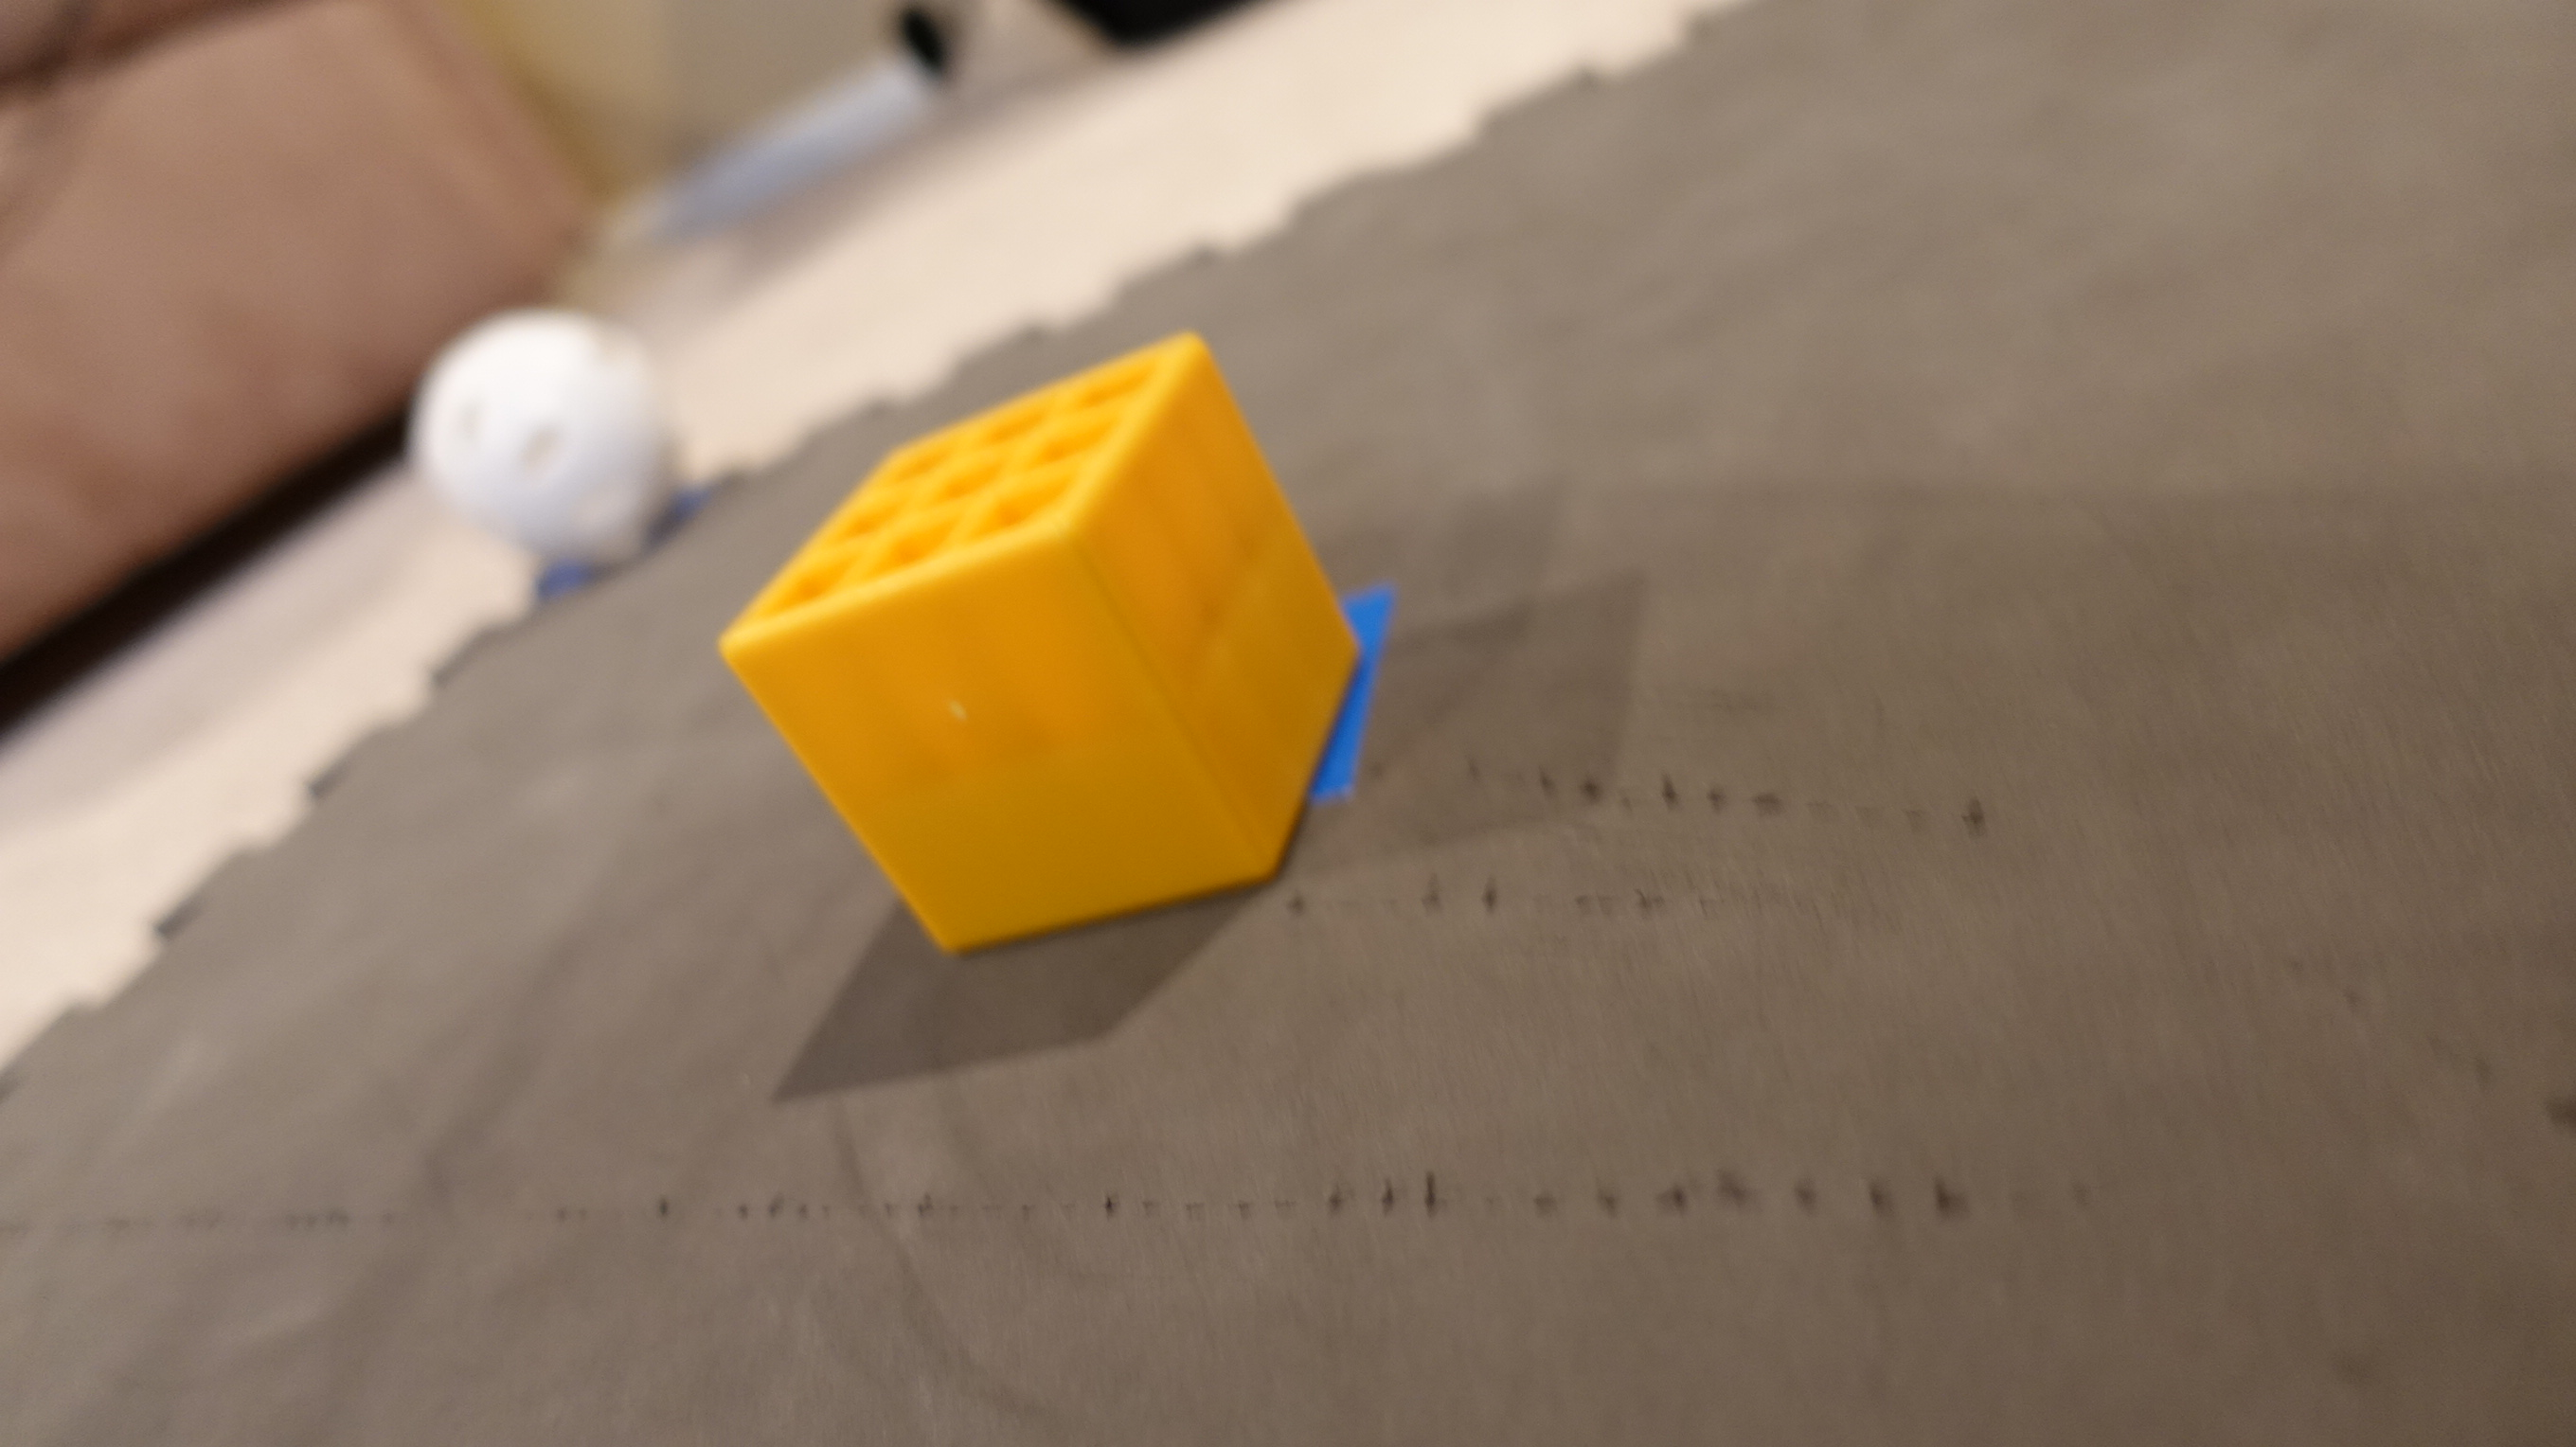gold: (713, 327, 1362, 962)
silver: (395, 306, 688, 564)
